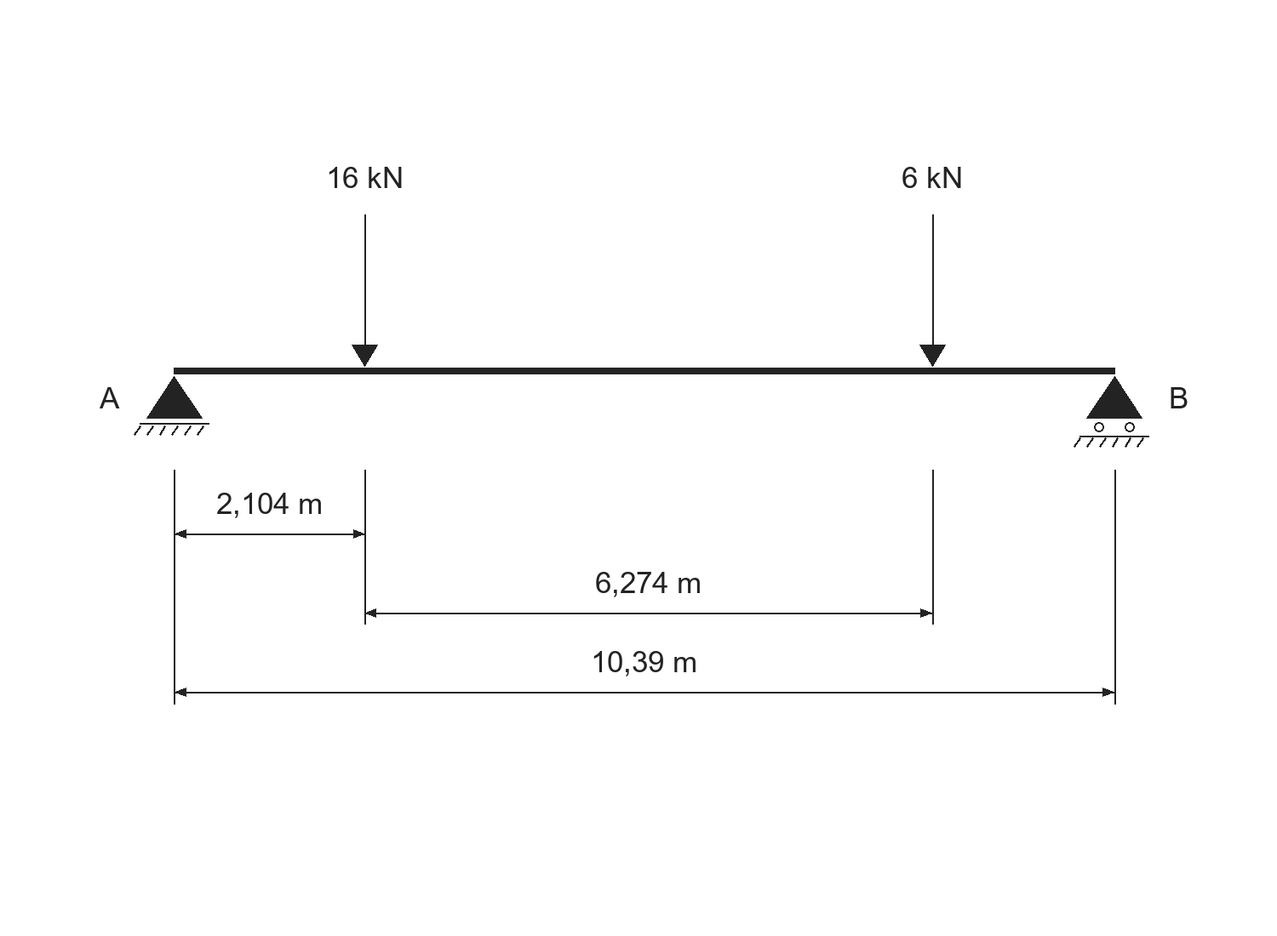pin_support: (134, 376, 209, 436)
point_load: (919, 214, 946, 367), (352, 214, 378, 367)
roller_support: (1074, 376, 1149, 448)
